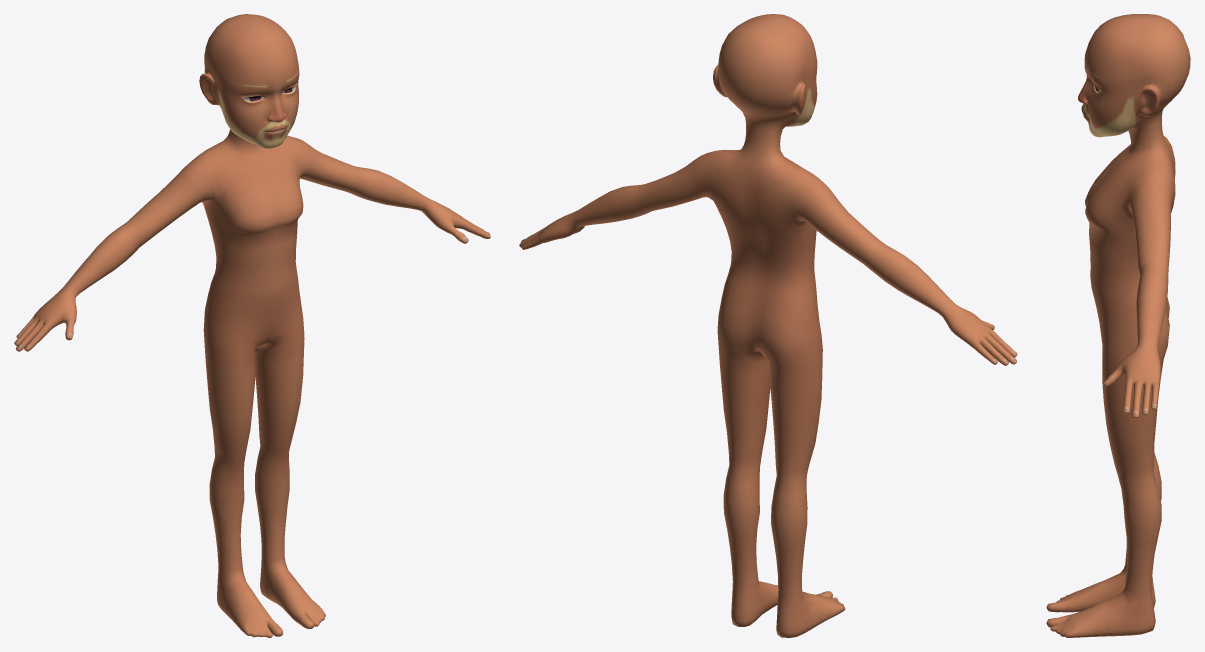
The model's file is frame_0030.glb.
The picture shows the model from 3 angles, left to right: view 1: azimuth 30°, elevation 25°; view 2: azimuth 150°, elevation 25°; view 3: azimuth 270°, elevation 25°; orthographic projection. The views are drawn at different scales.
Visible parts, largest first — view 1: frame_0030_head_geo; view 2: frame_0030_head_geo; view 3: frame_0030_head_geo.
Boxes of the visible parts, x1=… form: frame_0030_head_geo: x1=14, y1=14, x2=490, y2=637; frame_0030_head_geo: x1=519, y1=14, x2=1017, y2=637; frame_0030_head_geo: x1=1046, y1=14, x2=1190, y2=637.
Bounding box in the file's own units: 1.28 × 1.5 × 0.3253.
3 materials, 3 textured.
